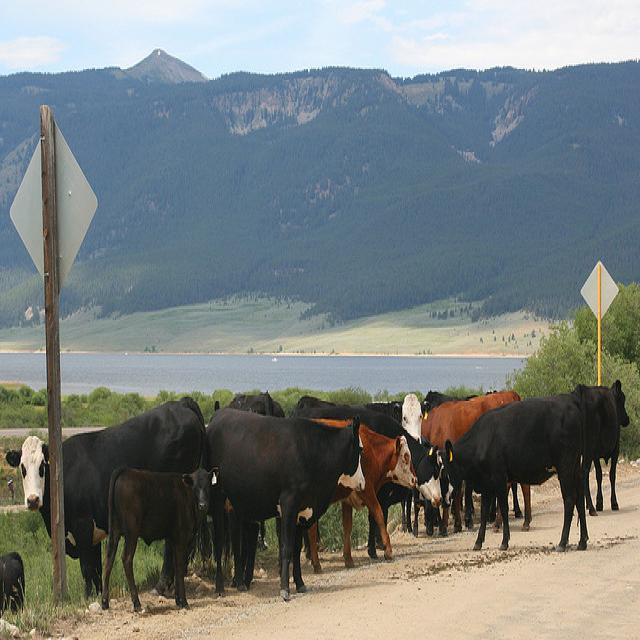cow: (3, 397, 215, 605), (206, 392, 363, 607), (435, 392, 588, 551), (306, 411, 416, 580), (99, 465, 215, 611), (420, 388, 531, 534), (290, 403, 441, 507), (576, 381, 627, 510), (364, 388, 459, 443), (0, 549, 26, 615), (228, 391, 284, 413)
